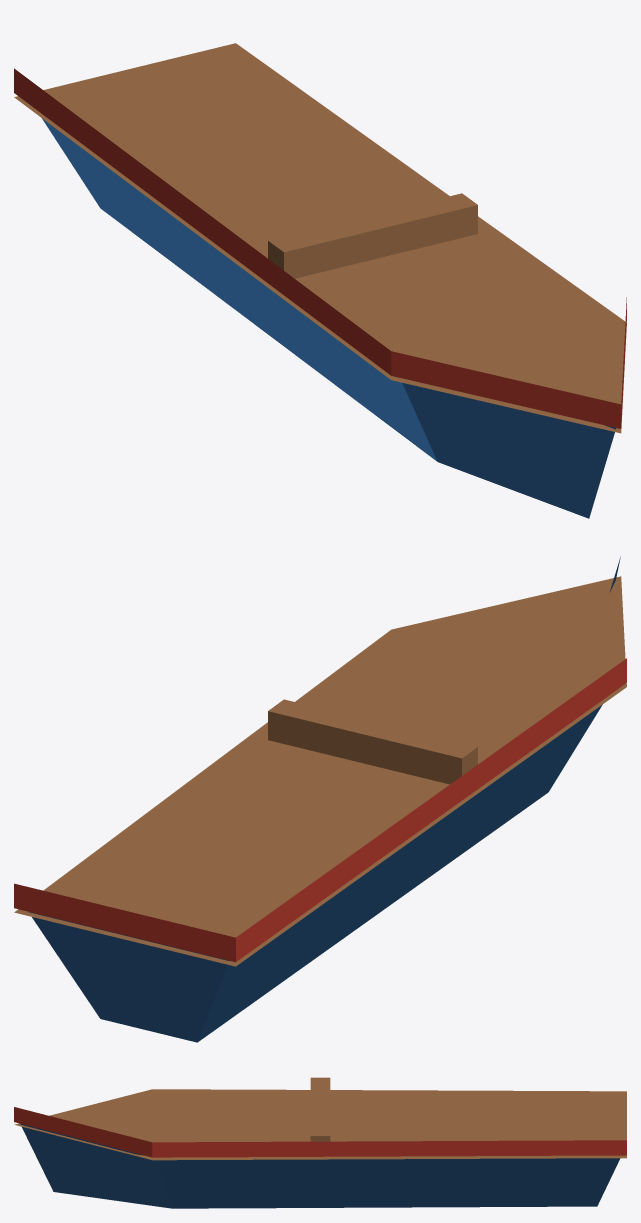
File: prop_bh_boat.glb
The picture shows the model from 3 angles, top to bottom: view 1: azimuth 30°, elevation 25°; view 2: azimuth 150°, elevation 25°; view 3: azimuth 270°, elevation 25°; orthographic projection. The views are drawn at different scales.
Visible parts, largest first — view 1: prop_bh_boat; view 2: prop_bh_boat; view 3: prop_bh_boat.
Boxes of the visible parts, box(x1,y1,x2,y2) form: prop_bh_boat: box(14, 43, 626, 518); prop_bh_boat: box(14, 557, 626, 1042); prop_bh_boat: box(14, 1077, 626, 1208).
Size of what is drawn, in the model's own units: 1.7 by 0.95 by 6.2.
